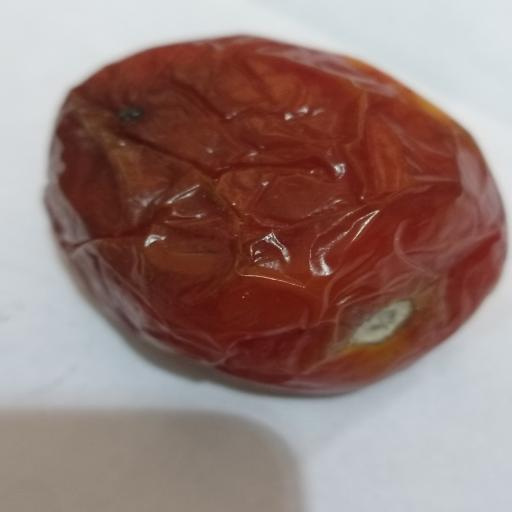spoiled: (46, 36, 507, 394)
